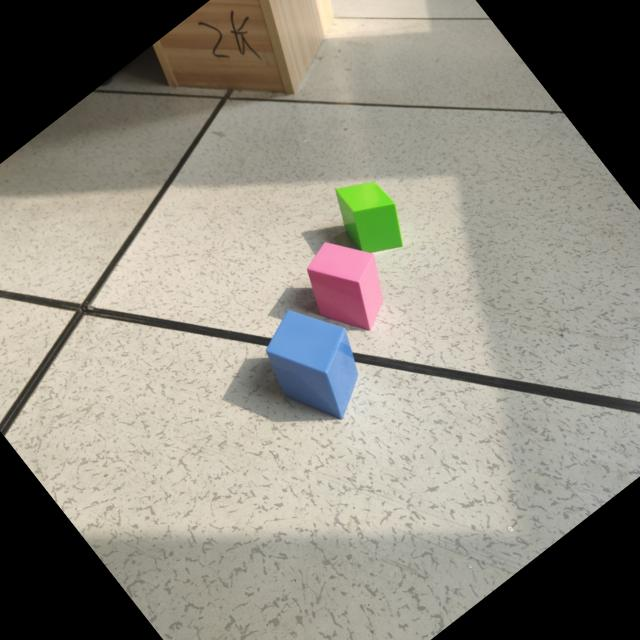blue: (267, 309, 360, 421)
green: (338, 179, 405, 251)
pink: (308, 241, 386, 332)
